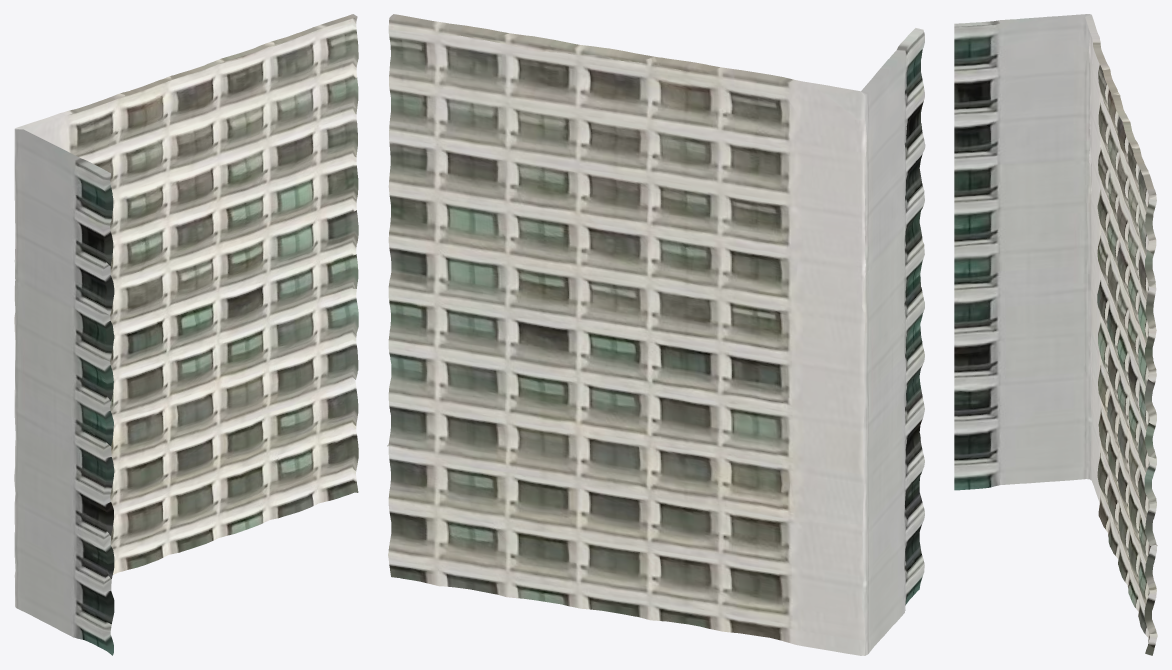
The model's file is z20-167750-405244-h1-yup-uvflip-v3-world.glb.
The picture shows the model from 3 angles, left to right: view 1: azimuth 30°, elevation 25°; view 2: azimuth 150°, elevation 25°; view 3: azimuth 270°, elevation 25°; orthographic projection. The views are drawn at different scales.
Size of the model in its own units: 27.12 by 33.52 by 13.12.
1 material, 1 textured.
